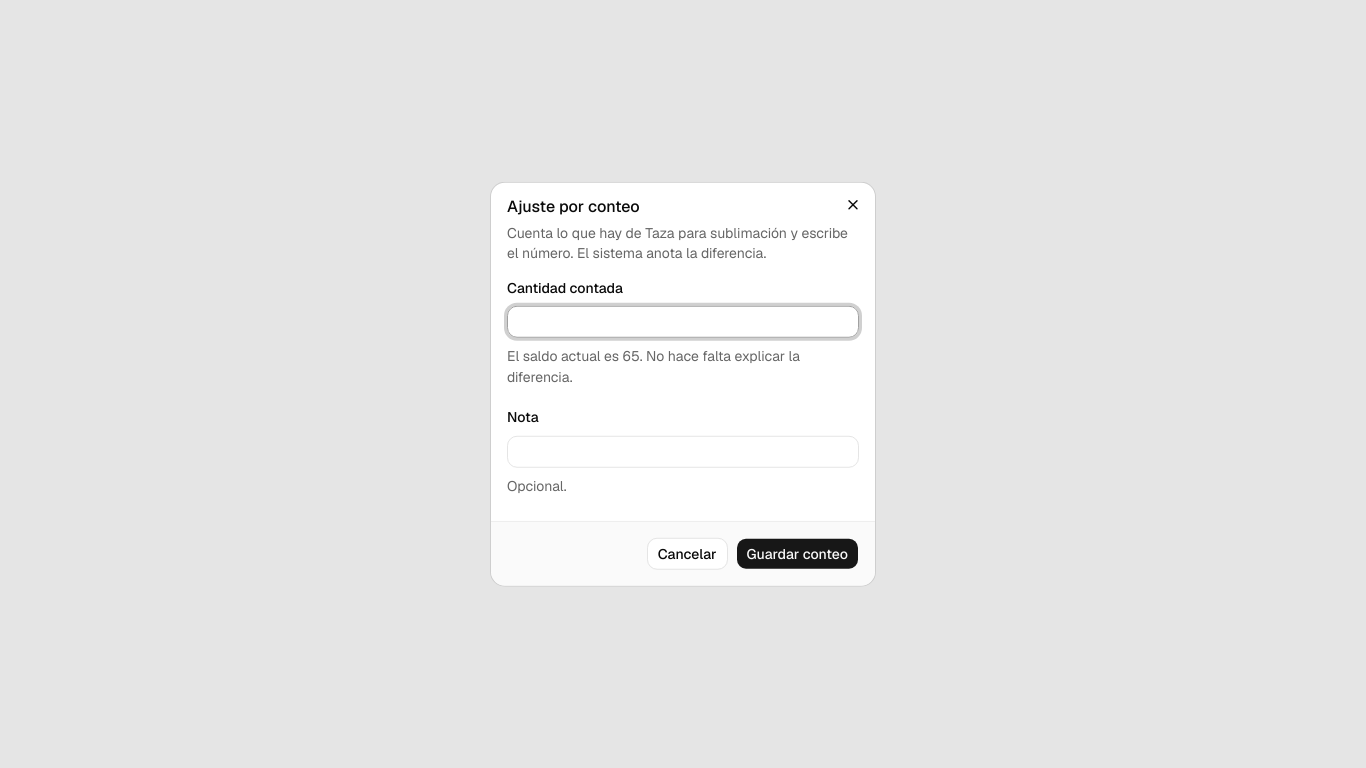
Test: CountDialog › muestra el fallo definitivo sin cerrar
Type "60" into the field labelled "Cantidad contada" at (683, 322), box [507, 306, 859, 338]
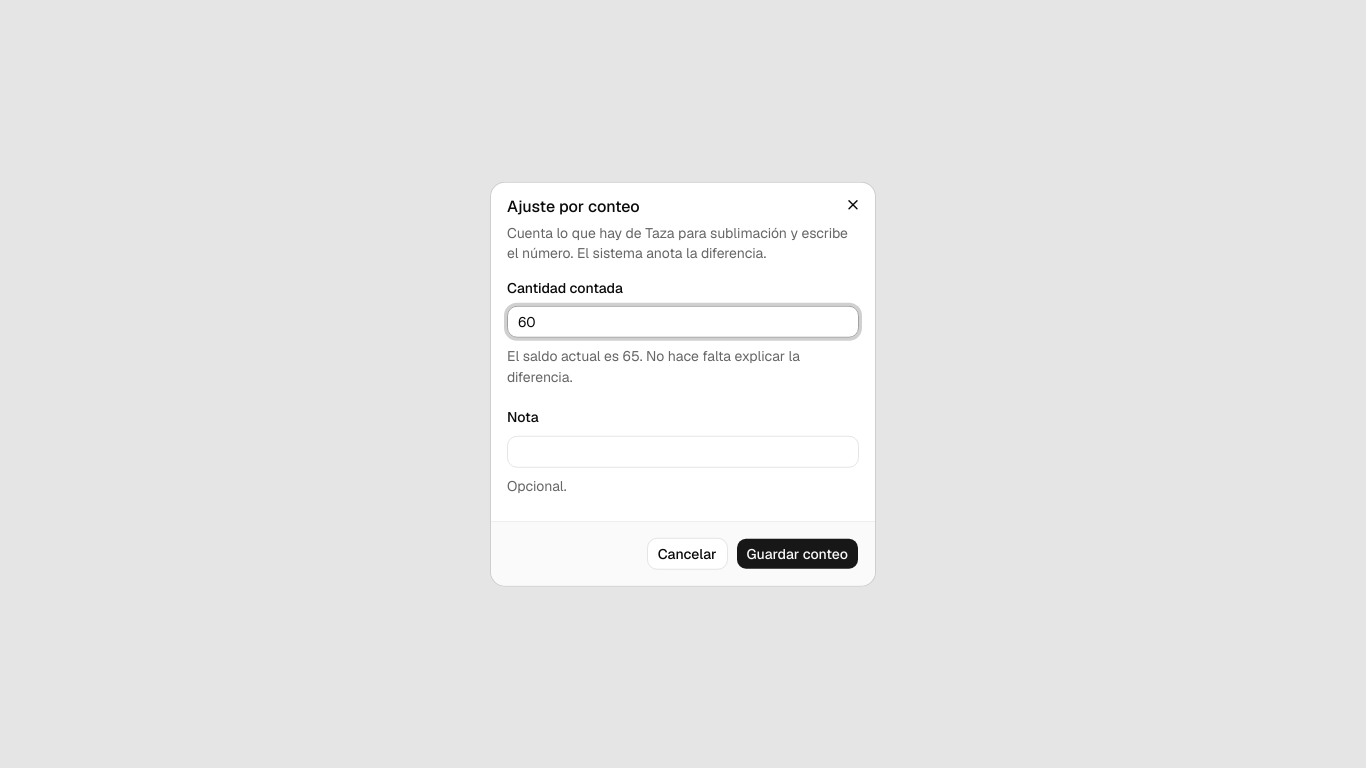
Click the button "Guardar conteo" at (797, 553), box [736, 537, 859, 569]
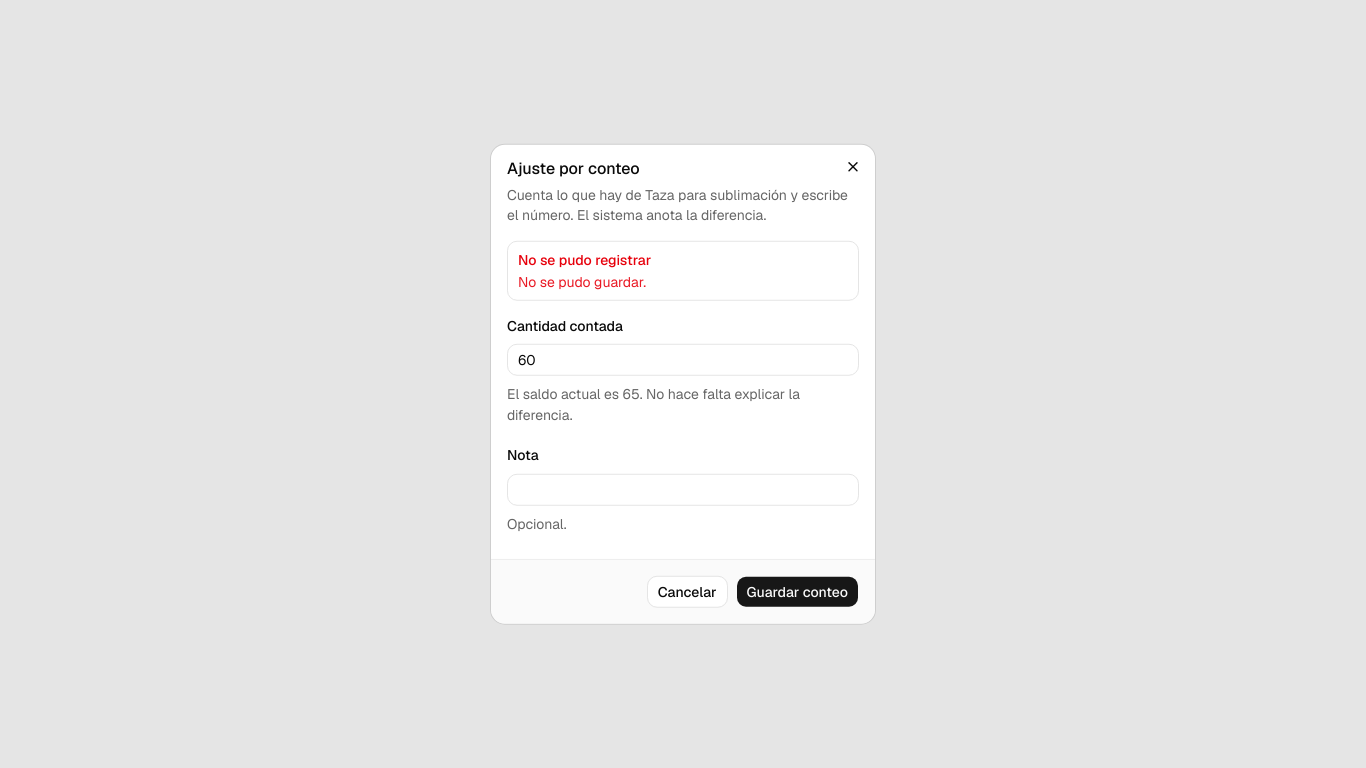
Expected: the text "No se pudo guardar." is shown, [518, 273, 646, 291]
